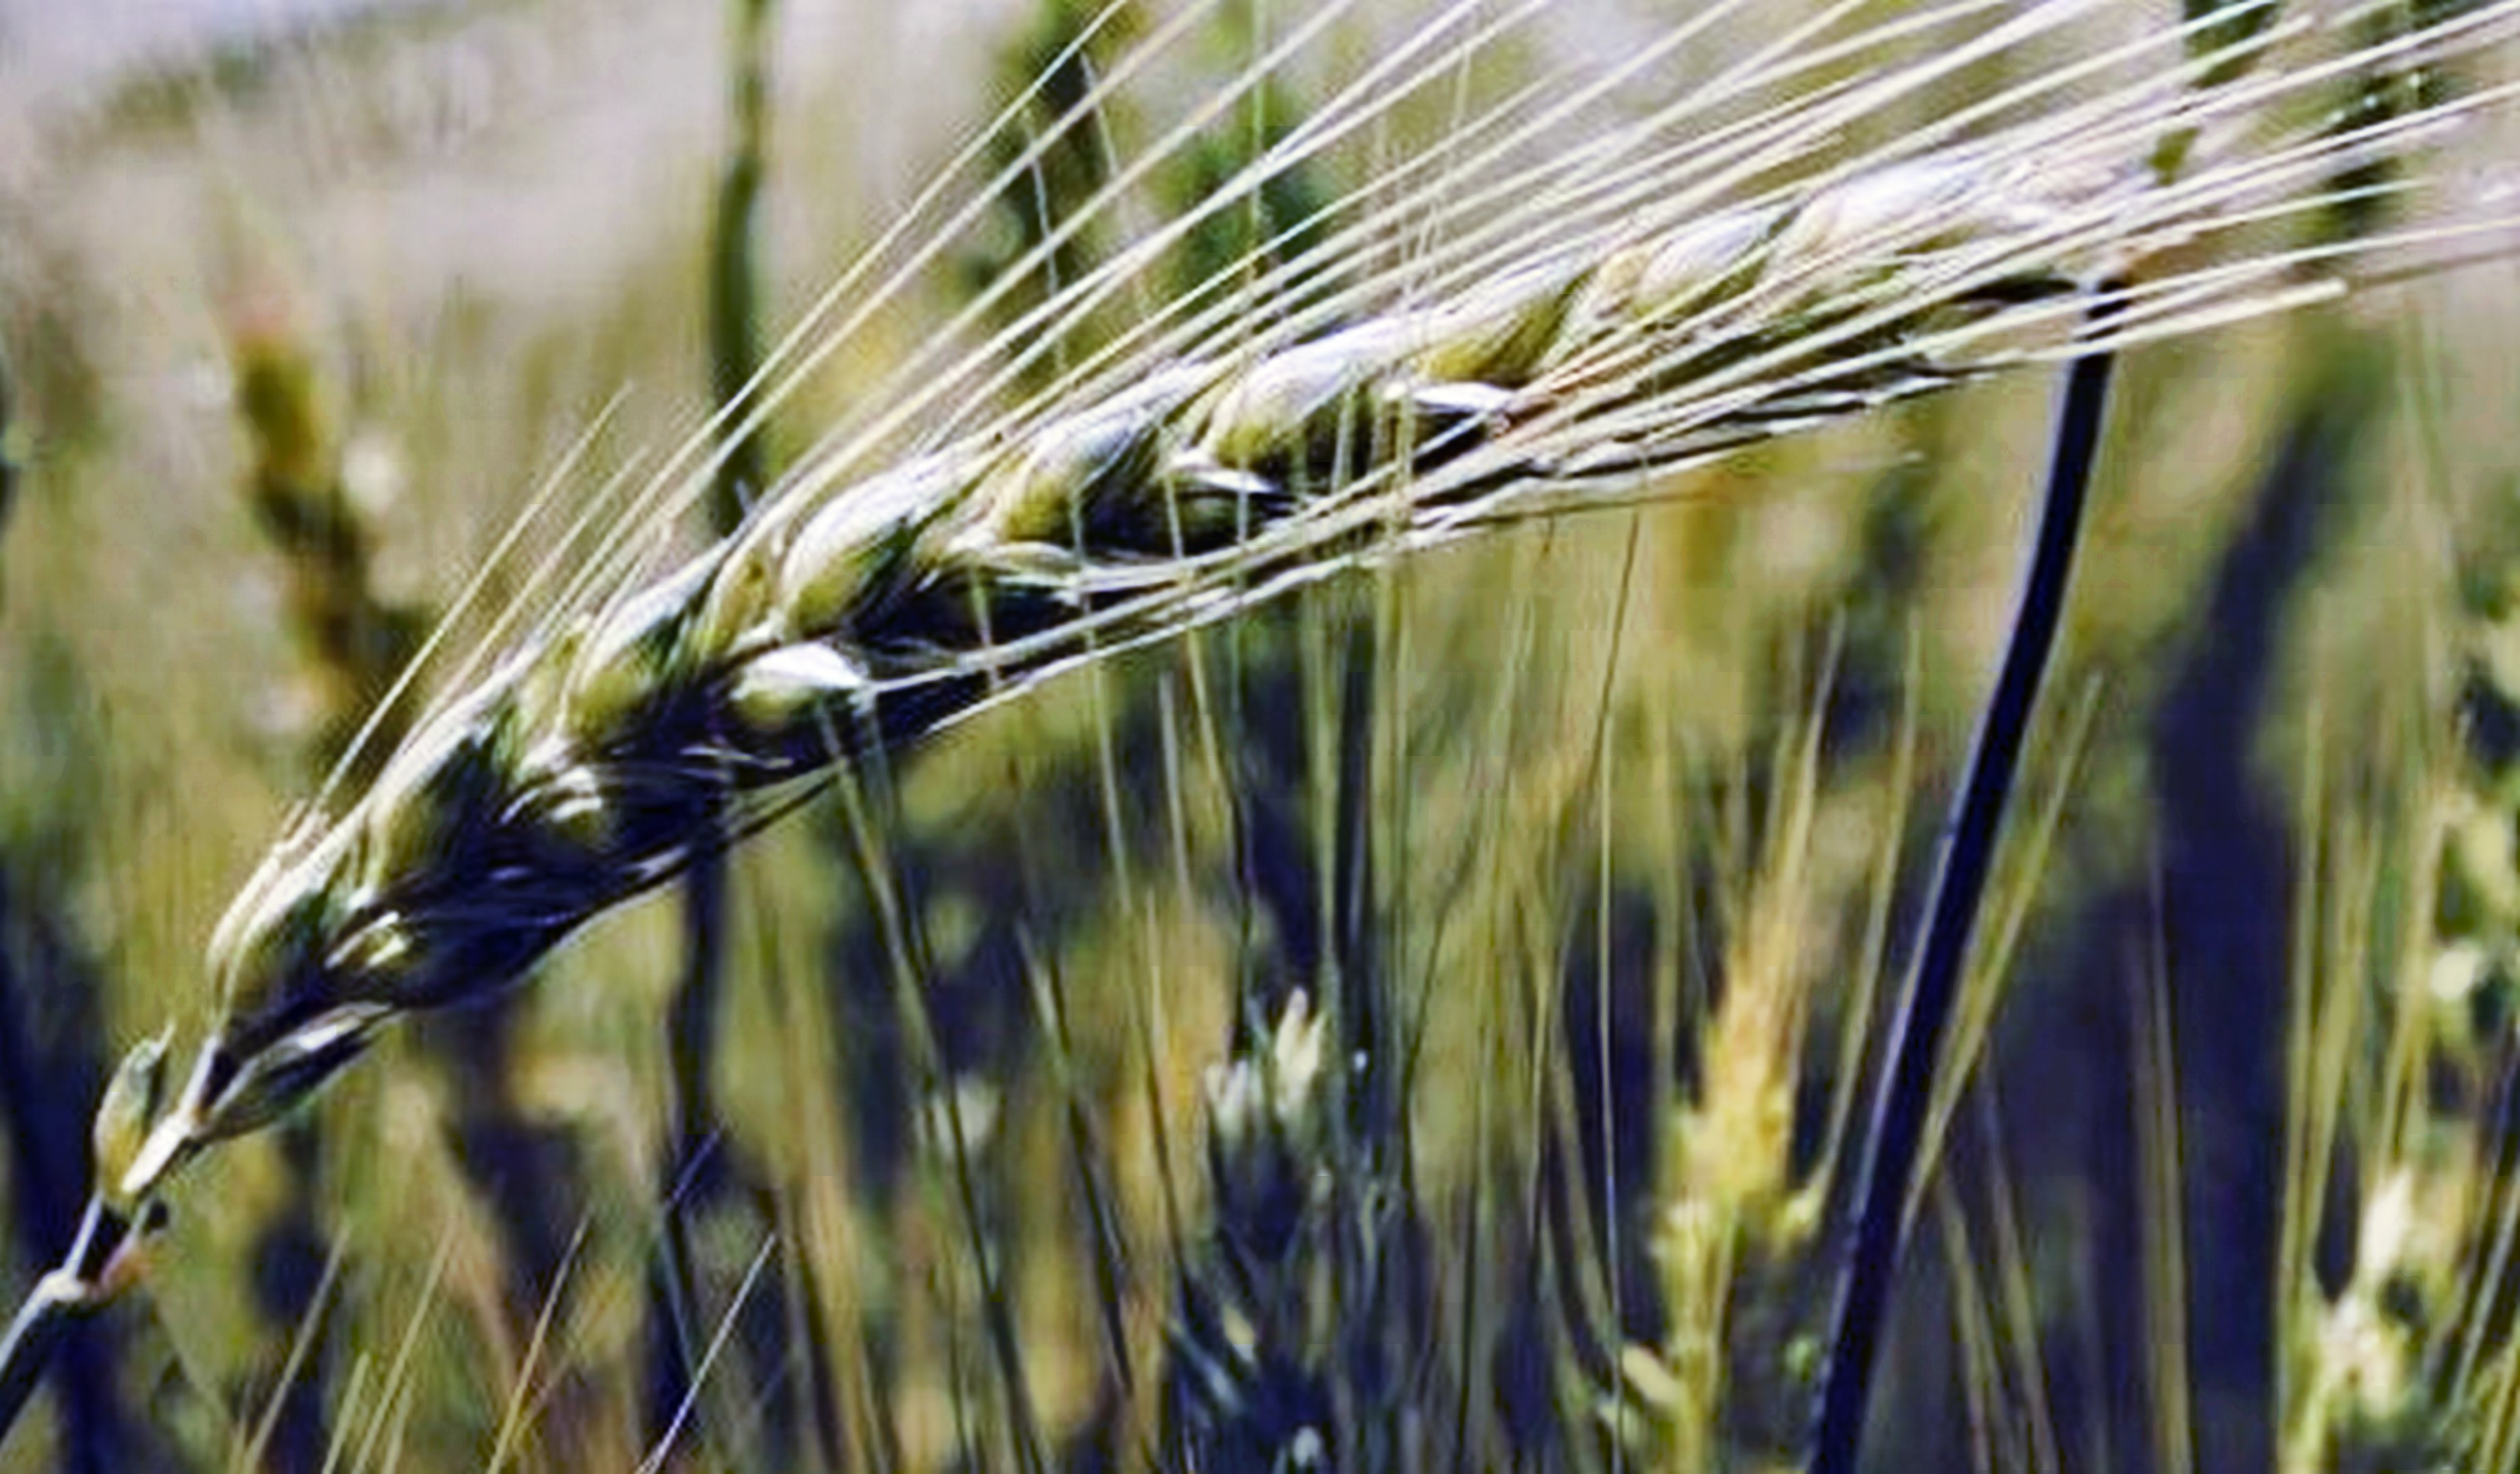Healthy Wheat: (216, 89, 2208, 1098)
